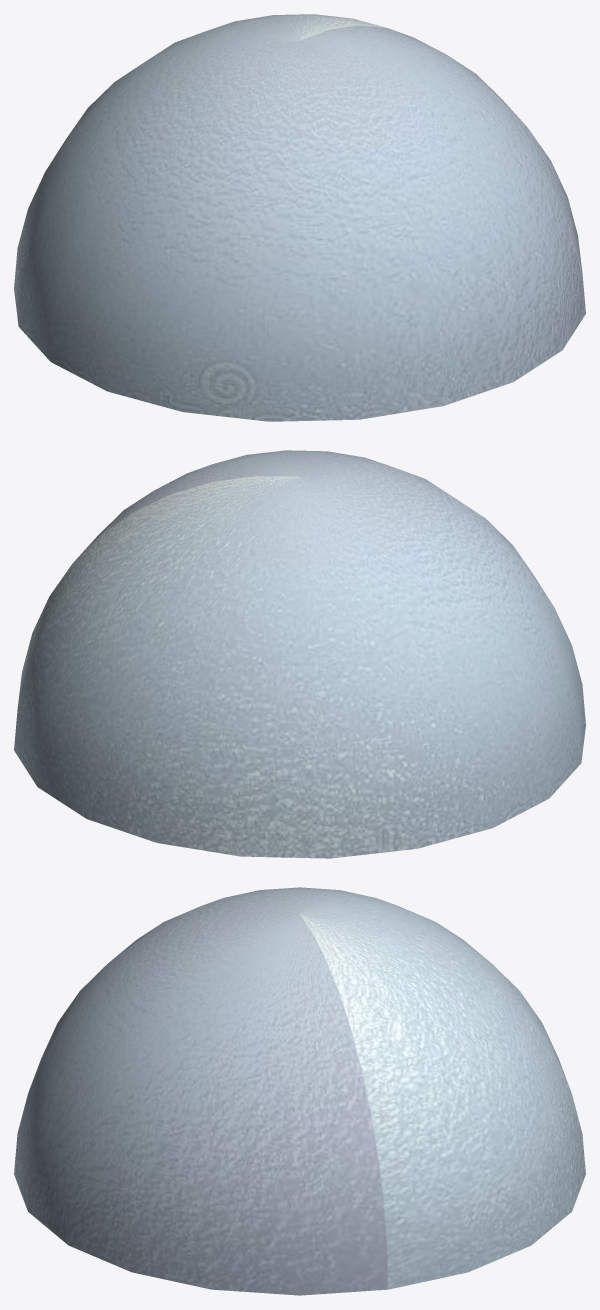
The model's file is burbuja3.obj.
The picture shows the model from 3 angles, top to bottom: view 1: azimuth 30°, elevation 25°; view 2: azimuth 150°, elevation 25°; view 3: azimuth 270°, elevation 25°; orthographic projection.
Visible parts, largest first — view 1: pasted__pasted__polySurface4 pasted__pasted__pSphere2 pasted__gr; view 2: pasted__pasted__polySurface4 pasted__pasted__pSphere2 pasted__gr; view 3: pasted__pasted__polySurface4 pasted__pasted__pSphere2 pasted__gr.
Part boxes in pixels (bbox=[...]): pasted__pasted__polySurface4 pasted__pasted__pSphere2 pasted__gr: bbox=[14, 14, 585, 421]; pasted__pasted__polySurface4 pasted__pasted__pSphere2 pasted__gr: bbox=[14, 450, 585, 858]; pasted__pasted__polySurface4 pasted__pasted__pSphere2 pasted__gr: bbox=[14, 887, 585, 1295].
Size of the model in its own units: 1.09 by 0.5468 by 1.09.
Materials: 1 (1 with a texture image).
